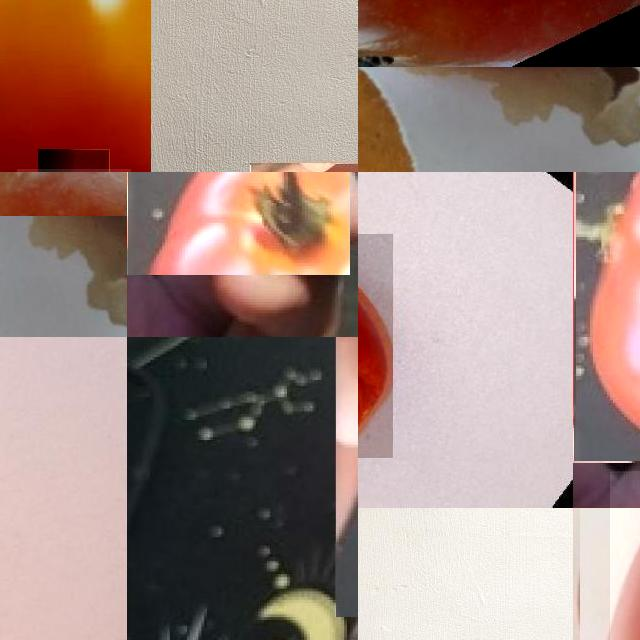Fresh Tomato: (0, 0, 151, 172), (127, 172, 350, 275), (573, 172, 640, 461)
Rotten Tomato: (358, 0, 640, 67), (358, 234, 393, 458)
